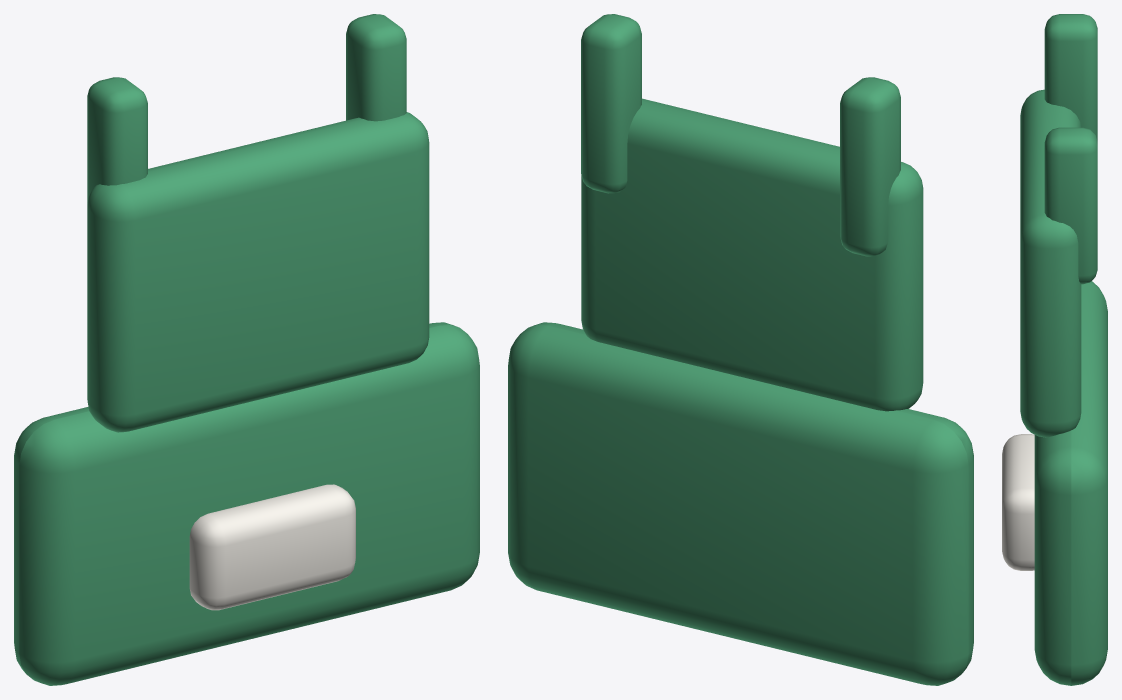
The model's file is part_apron.glb.
3 views of the same model, side by side, from view 1: azimuth 30°, elevation 25°; view 2: azimuth 150°, elevation 25°; view 3: azimuth 270°, elevation 25° (orthographic). The views are drawn at different scales.
Visible parts, largest first — view 1: Apron_Skirt, Apron_Bib, Apron_Pocket, Apron_Strap_L, Apron_Strap_R; view 2: Apron_Skirt, Apron_Bib, Apron_Strap_L, Apron_Strap_R; view 3: Apron_Skirt, Apron_Bib, Apron_Strap_R, Apron_Strap_L, Apron_Pocket.
Boxes of the visible parts, x1,y1,x2,y2 form: Apron_Skirt: (14, 322, 479, 685); Apron_Bib: (87, 112, 429, 432); Apron_Pocket: (189, 484, 355, 610); Apron_Strap_L: (87, 77, 147, 203); Apron_Strap_R: (346, 14, 406, 121); Apron_Skirt: (508, 322, 973, 685); Apron_Bib: (581, 98, 923, 411); Apron_Strap_L: (840, 77, 900, 256); Apron_Strap_R: (581, 14, 641, 193); Apron_Skirt: (1034, 281, 1107, 685); Apron_Bib: (1020, 89, 1081, 437); Apron_Strap_R: (1044, 127, 1097, 284); Apron_Strap_L: (1044, 14, 1097, 140); Apron_Pocket: (1002, 434, 1034, 570).
Size of the model in its own units: 0.58 by 0.709 by 0.13.
